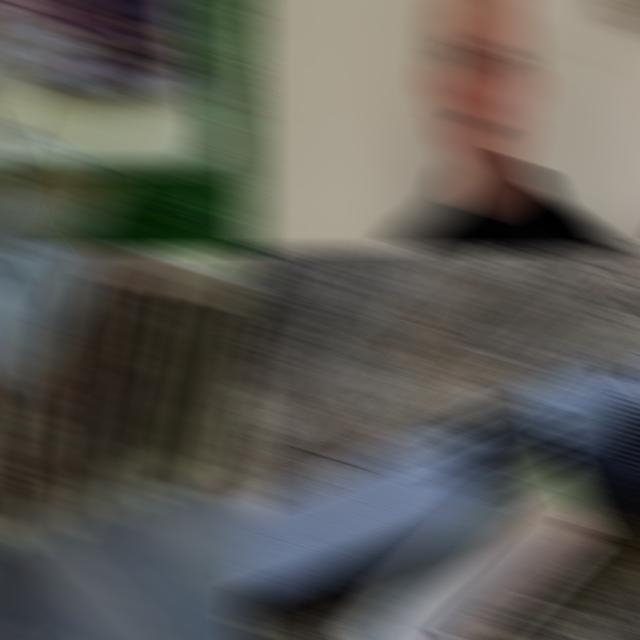Knife: (335, 380, 640, 640), (0, 246, 103, 393)
